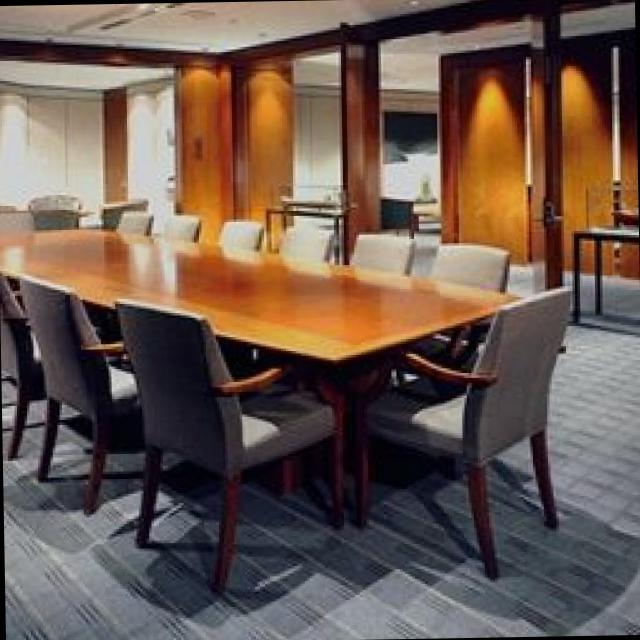armchair crop: (378, 189, 423, 231)
ceiling lamps: (80, 3, 172, 31)
chair: (429, 243, 501, 287), (346, 229, 409, 271), (23, 190, 76, 230), (271, 226, 331, 260), (211, 219, 258, 246)
chair -occluded-: (112, 299, 341, 584), (354, 286, 567, 577), (19, 273, 134, 509), (148, 215, 198, 235), (111, 208, 148, 231)
conference table: (0, 229, 530, 357)
door bars: (433, 36, 531, 264), (168, 69, 228, 227)
painting crop: (379, 106, 435, 164)
small table part: (570, 223, 637, 321), (256, 193, 341, 231)
